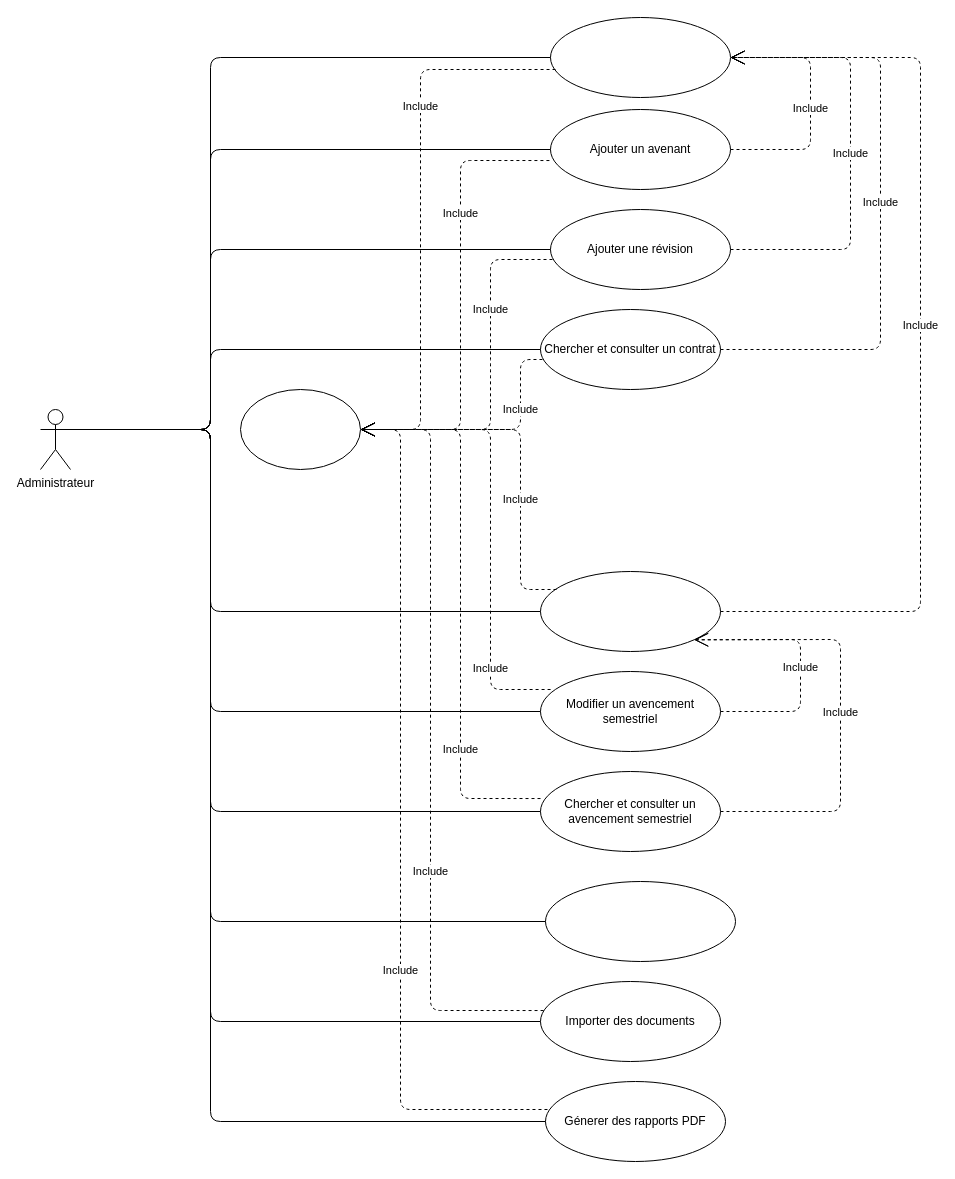
The diagram is 955 pixels wide and 1179 high, and some of its shapes have lost their labels. Here are the shapes that lost their labels. From the top down, the centre of each, then its label:
pixel 640 57: Ajouter un contrat
pixel 300 429: S'authentifier
pixel 630 611: Ajouter un avancement semstriel
pixel 640 921: Voir une présentation analytique des données
